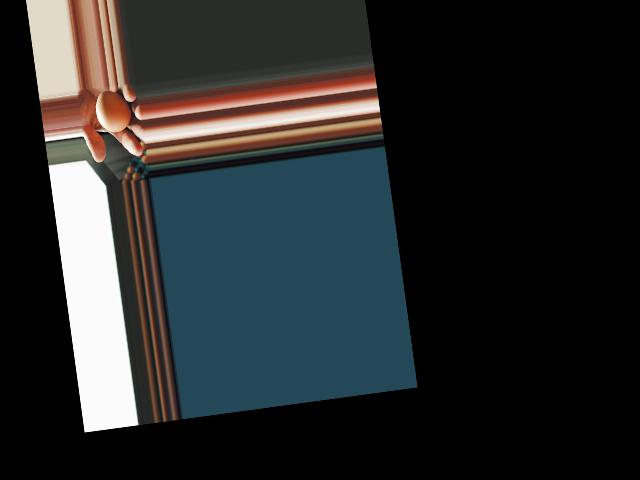egg: (93, 86, 134, 134)
